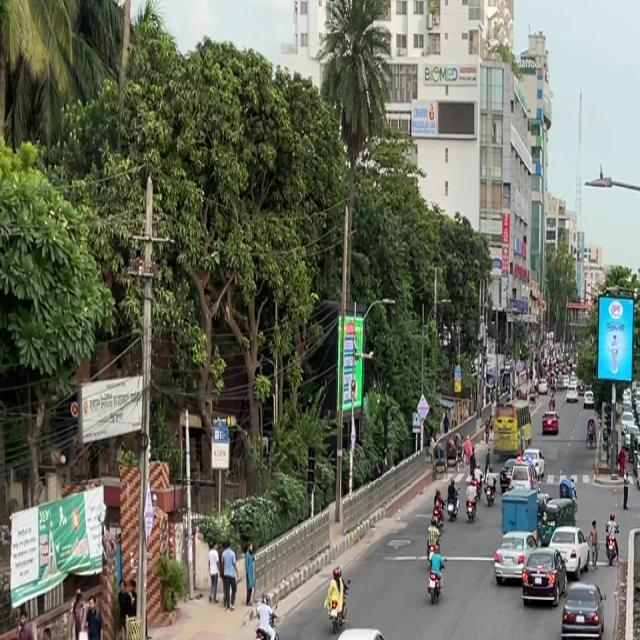car: (556, 574, 606, 640), (521, 540, 561, 609), (553, 516, 591, 580), (491, 528, 528, 587), (318, 617, 400, 640)
motorbike: (323, 564, 351, 640), (246, 583, 283, 640), (423, 535, 446, 606), (602, 512, 621, 568), (592, 512, 607, 568)
